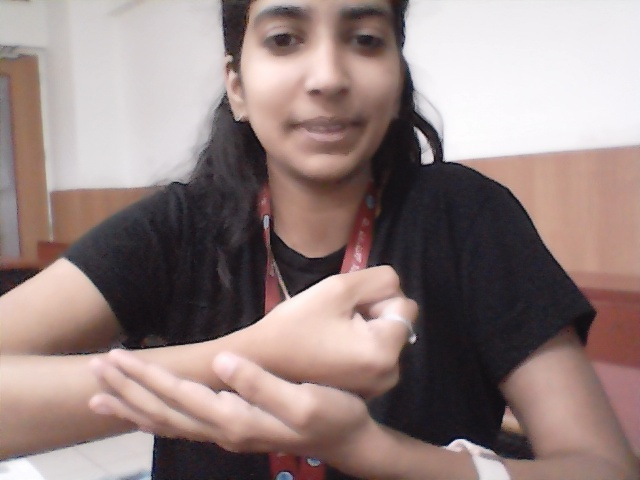Baby: (70, 203, 433, 473)
